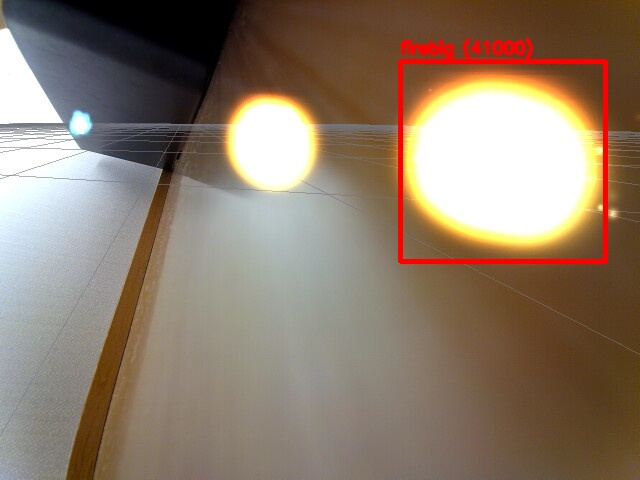firebig: (400, 61, 605, 261)
